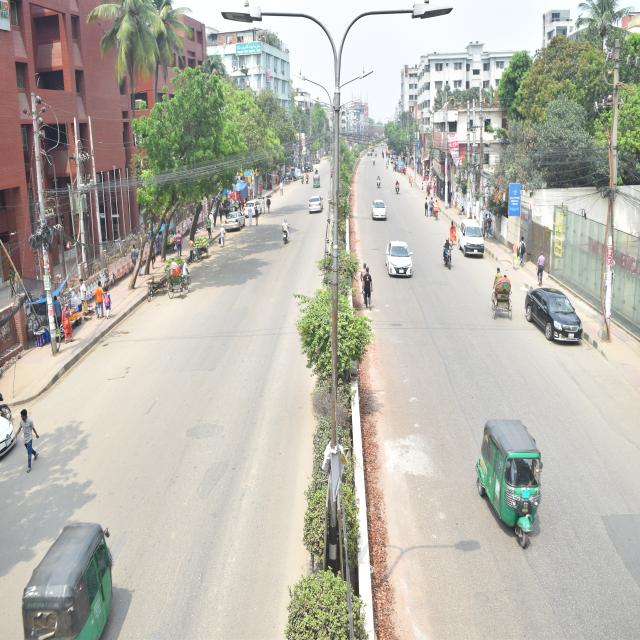car: (524, 288, 586, 350), (383, 236, 416, 282), (220, 208, 248, 236), (367, 193, 391, 222), (306, 191, 323, 218), (243, 197, 266, 216)
microbus: (456, 212, 486, 262)
motorbike: (442, 236, 453, 275), (281, 218, 293, 248), (395, 178, 402, 193), (376, 173, 382, 190)
